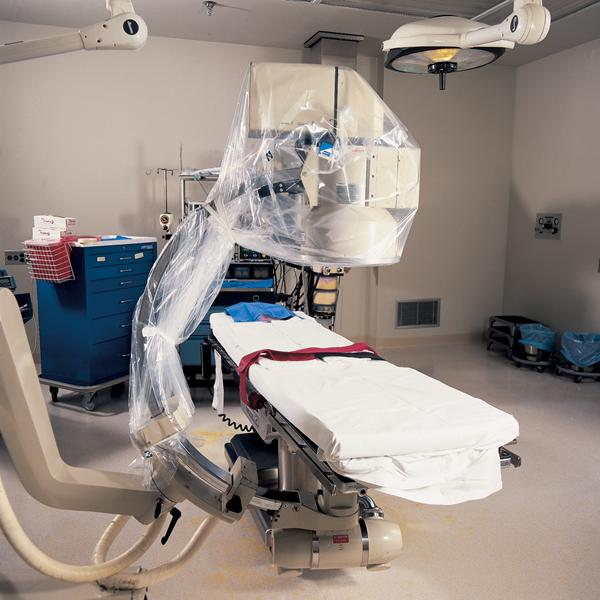Bed: (210, 307, 525, 512)
C_arm: (136, 60, 424, 572)
Light: (380, 16, 519, 92)
